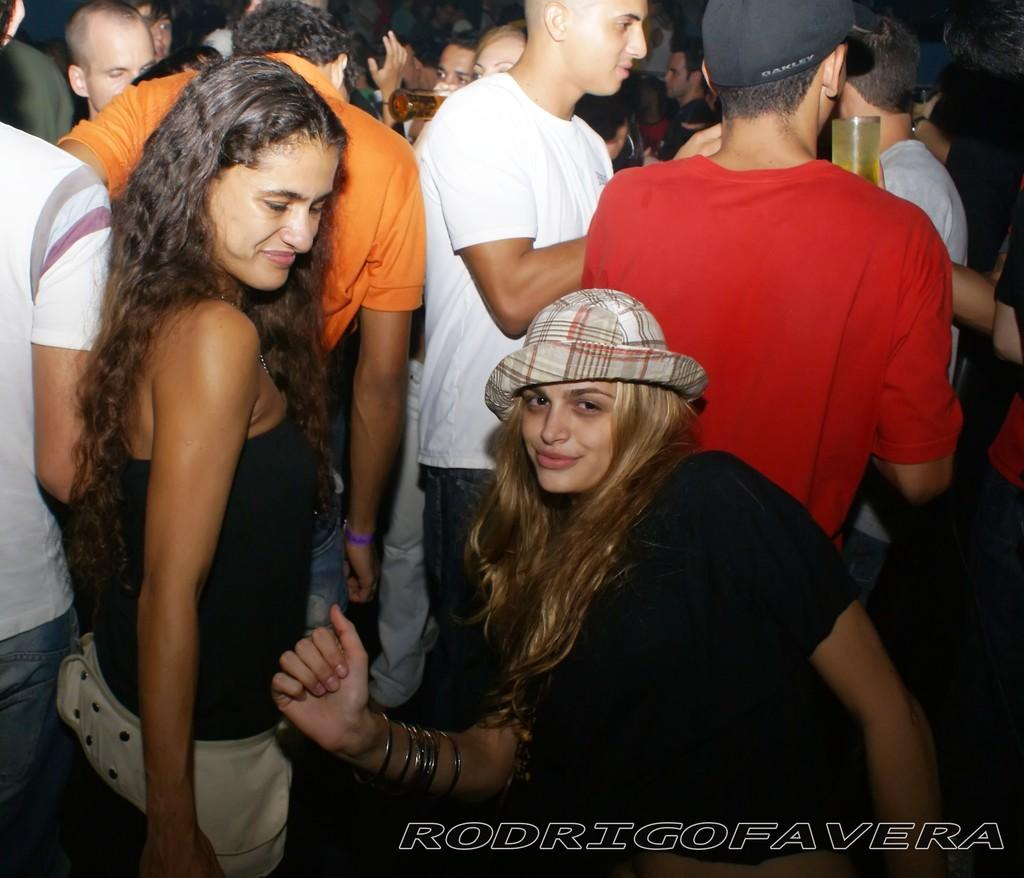Hat: (480, 287, 706, 424), (700, 0, 882, 90)
